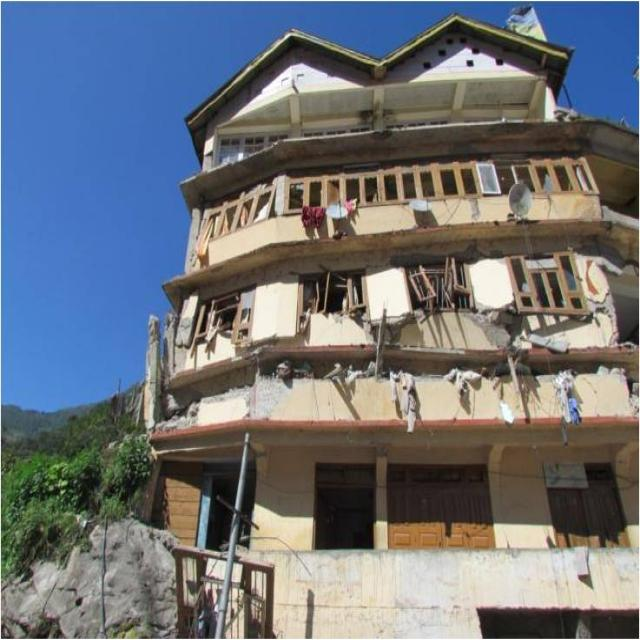Severely_Damaged: (155, 154, 640, 426)
